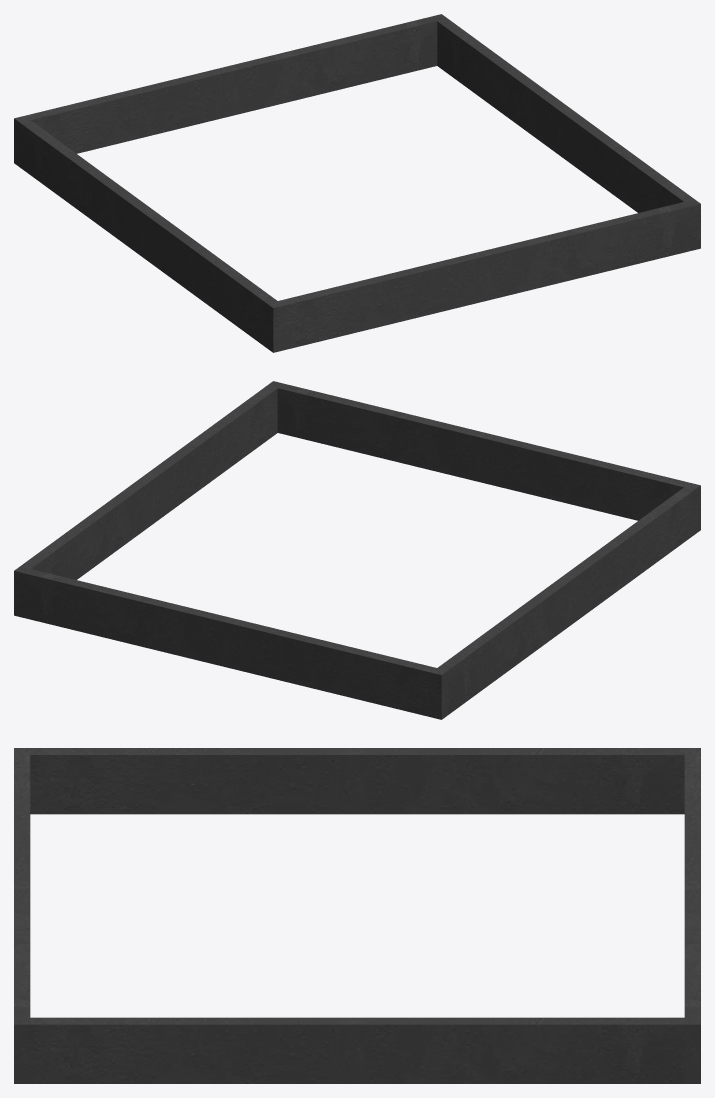
The model's file is barda.fbx.
3 renders of one model, top to bottom at view 1: azimuth 30°, elevation 25°; view 2: azimuth 150°, elevation 25°; view 3: azimuth 270°, elevation 25°, orthographic. The views are drawn at different scales.
Visible parts, largest first — view 1: Cube.003, Cube.002, Cube.001, Cube.004; view 2: Cube.002, Cube.003, Cube.001, Cube.004; view 3: Cube.001, Cube.004, Cube.002, Cube.003.
Boxes of the visible parts, box(x1,y1,x2,y2) form: Cube.003: box(267, 199, 700, 352); Cube.002: box(14, 14, 447, 167); Cube.001: box(20, 120, 276, 347); Cube.004: box(437, 18, 694, 212); Cube.002: box(14, 566, 447, 719); Cube.003: box(267, 381, 700, 534); Cube.001: box(438, 487, 694, 714); Cube.004: box(20, 385, 277, 579); Cube.001: box(30, 748, 684, 814); Cube.004: box(30, 1017, 684, 1083); Cube.002: box(684, 748, 700, 1083); Cube.003: box(14, 748, 30, 1083).
Size of the model in its own units: 2000 by 200 by 2100.
Materials: 1 (1 with a texture image).
